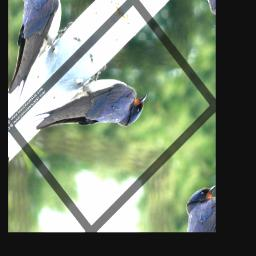Swallow: (13, 34, 154, 191)
